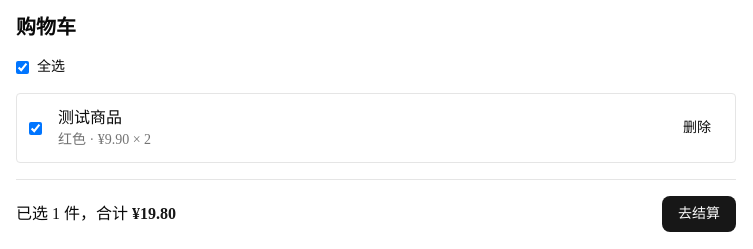
CartPage › removes an item via API
This screenshot has width=753, height=249.
Check: the text "测试商品" is shown, box [58,109,122,126]
Click the button "删除". click: [697, 128]
box: [671,112,723,144]
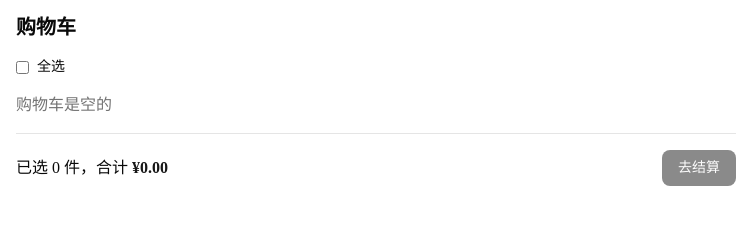
Check: the text "购物车是空的" is shown, box [16,96,112,113]
